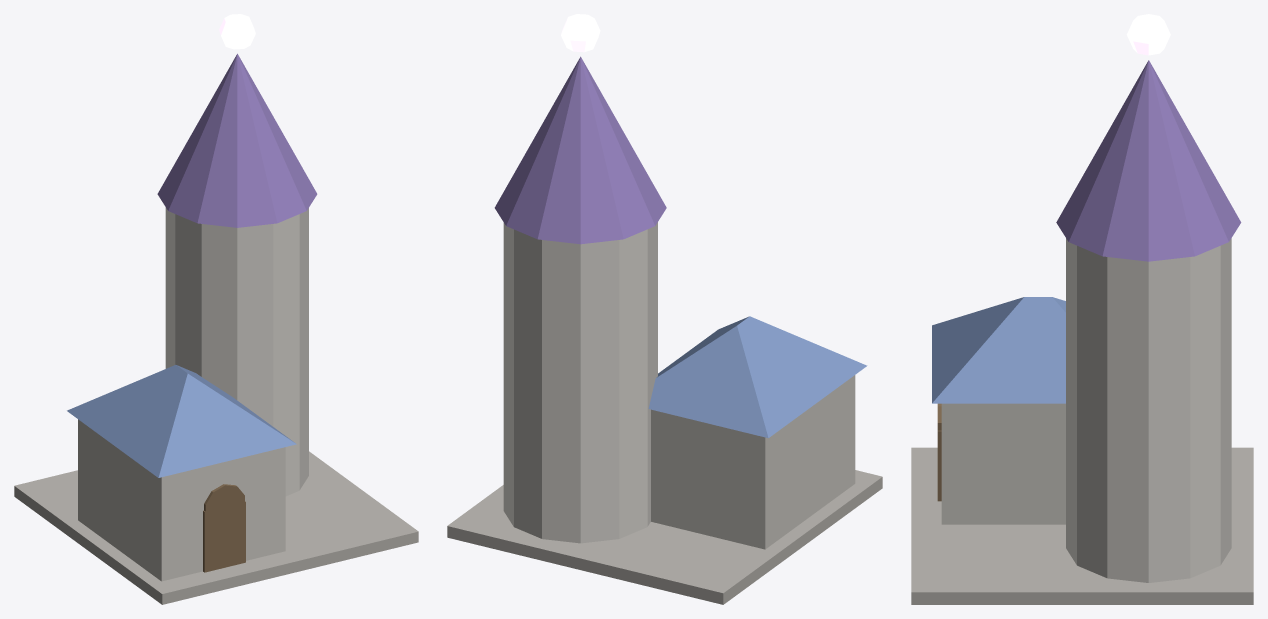
The picture shows the model from 3 angles, left to right: view 1: azimuth 30°, elevation 25°; view 2: azimuth 150°, elevation 25°; view 3: azimuth 270°, elevation 25°; orthographic projection. The views are drawn at different scales.
Visible parts, largest first — view 1: body; view 2: body; view 3: body.
Part boxes in pixels (left/top/right/bottom): body: left=14, top=14, right=418, bottom=604; body: left=447, top=14, right=882, bottom=604; body: left=911, top=14, right=1253, bottom=604.
Size of the model in its own units: 12.4 by 21.8 by 12.4.
